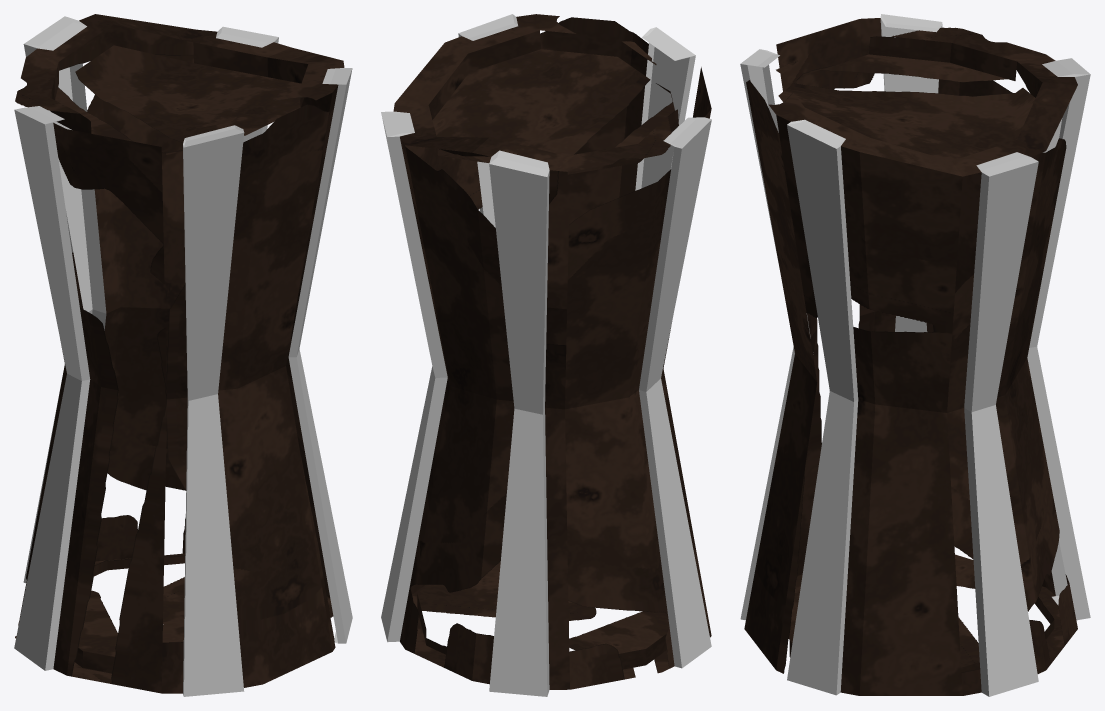
File: Broken cylinder.fbx
3 views of the same model, side by side, from view 1: azimuth 30°, elevation 25°; view 2: azimuth 150°, elevation 25°; view 3: azimuth 270°, elevation 25° (orthographic). The views are drawn at different scales.
Visible parts, largest first — view 1: Cylinder, Cylinder.001; view 2: Cylinder, Cylinder.001; view 3: Cylinder, Cylinder.001.
Part boxes in pixels (left/top/right/bottom): Cylinder: left=15, top=14, right=344, bottom=693; Cylinder.001: left=14, top=16, right=352, bottom=696; Cylinder: left=393, top=14, right=711, bottom=689; Cylinder.001: left=381, top=14, right=711, bottom=696; Cylinder: left=744, top=18, right=1077, bottom=695; Cylinder.001: left=740, top=14, right=1090, bottom=696.
Size of the model in its own units: 395 by 732 by 418.
